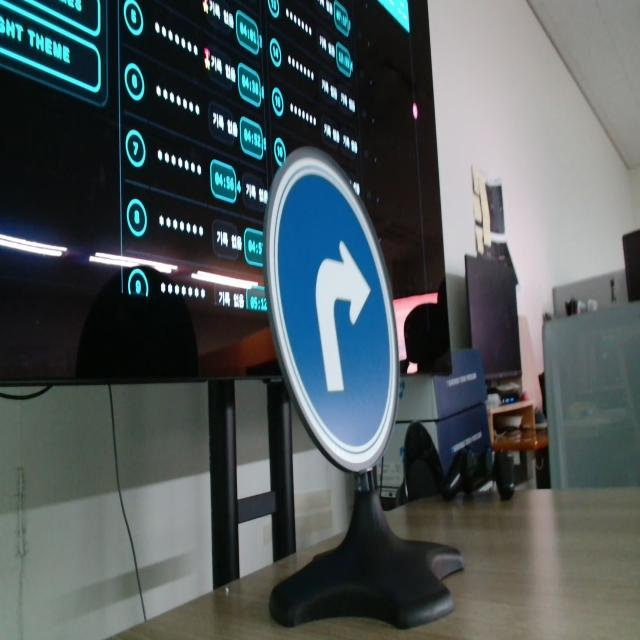right_dierection: (237, 130, 419, 461)
